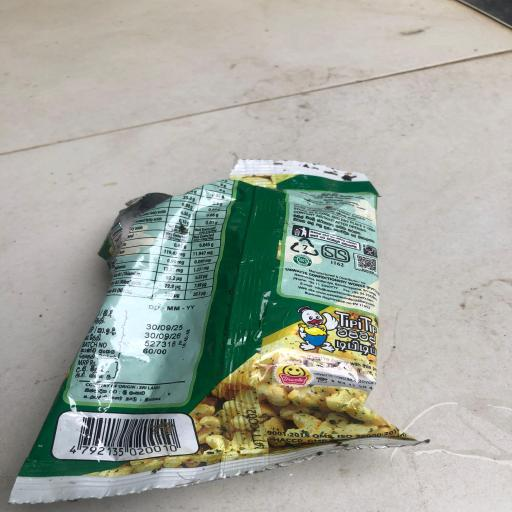waste: (2, 137, 436, 508)
